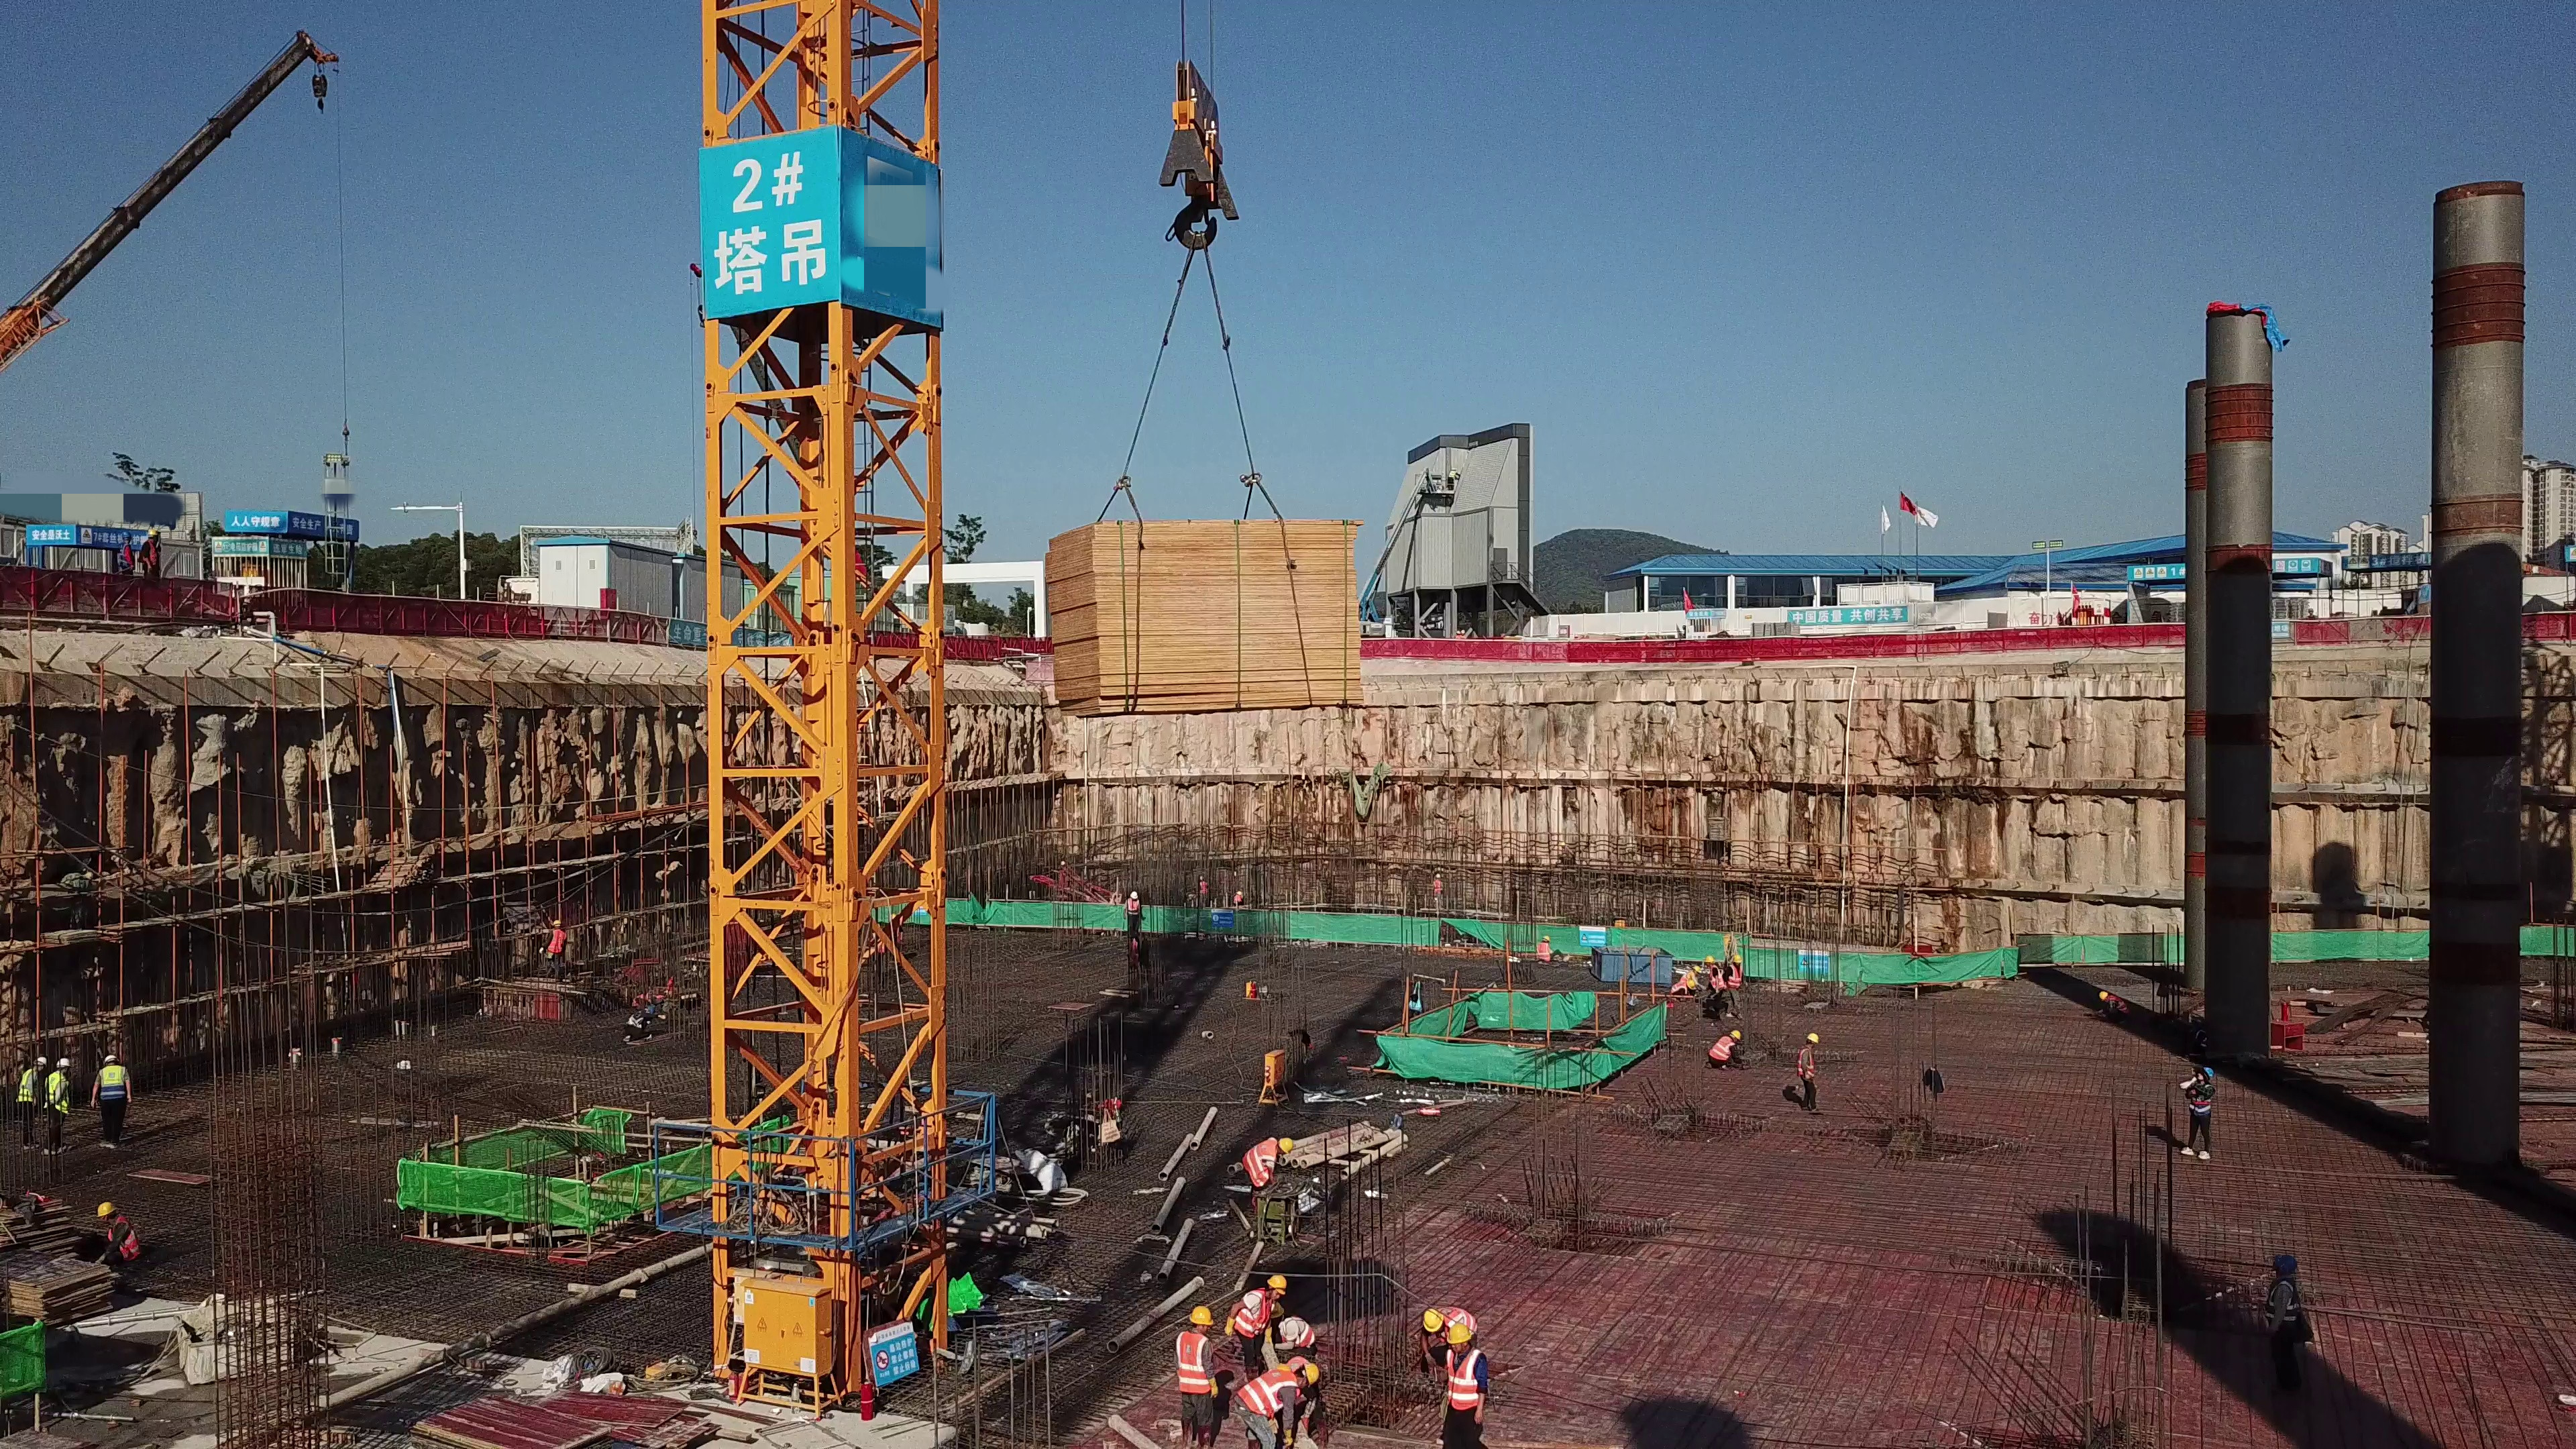helmet: (2276, 1246, 2297, 1275), (1275, 1135, 1297, 1158), (1421, 1311, 1442, 1332), (1448, 1323, 1474, 1341), (1191, 1305, 1213, 1322), (1269, 1274, 1287, 1292), (1305, 1360, 1319, 1383), (96, 1201, 117, 1216), (2199, 1067, 2215, 1085), (1807, 1030, 1822, 1044), (102, 1053, 120, 1061), (35, 1056, 48, 1068), (1705, 953, 1717, 965), (120, 527, 134, 538), (144, 527, 160, 537), (1686, 979, 1697, 991), (1730, 1029, 1743, 1040), (1731, 951, 1743, 963), (2098, 988, 2110, 1000), (57, 1059, 69, 1067), (1540, 934, 1554, 942), (1129, 892, 1138, 900), (549, 920, 564, 926), (1236, 891, 1242, 895)
person: (1236, 1350, 1328, 1449), (1172, 1303, 1220, 1449), (1232, 1111, 1300, 1205), (1444, 1324, 1495, 1449), (1226, 1264, 1287, 1367), (2255, 1244, 2309, 1358), (86, 1051, 140, 1151), (1415, 1294, 1485, 1354), (2179, 1059, 2218, 1166), (92, 1202, 145, 1276), (46, 1055, 74, 1163), (17, 1050, 45, 1154), (1702, 1024, 1750, 1078), (1795, 1025, 1824, 1107), (1274, 1316, 1324, 1352), (540, 918, 569, 972), (1705, 953, 1727, 1018), (1725, 953, 1746, 1022), (140, 525, 167, 581), (1531, 932, 1570, 969), (2089, 989, 2131, 1020), (1123, 890, 1146, 941), (1430, 867, 1452, 917), (116, 526, 139, 578), (1667, 978, 1697, 1002), (1684, 964, 1704, 989), (1193, 875, 1209, 904), (1230, 888, 1246, 908)
vest: (1240, 1371, 1296, 1417), (1452, 1351, 1481, 1418), (1181, 1334, 1210, 1395), (1238, 1293, 1269, 1338), (1242, 1138, 1274, 1179), (2269, 1283, 2299, 1324), (111, 1218, 140, 1259), (2187, 1082, 2215, 1123), (101, 1067, 125, 1105), (49, 1071, 67, 1118), (1709, 1037, 1733, 1069), (1442, 1303, 1478, 1326), (1797, 1049, 1818, 1079), (18, 1073, 35, 1104), (144, 541, 161, 572), (1729, 967, 1742, 994), (1708, 966, 1723, 991), (121, 545, 136, 572), (1536, 944, 1554, 963), (2108, 996, 2128, 1012), (1125, 900, 1142, 917), (1670, 981, 1687, 991), (1232, 891, 1241, 905)
